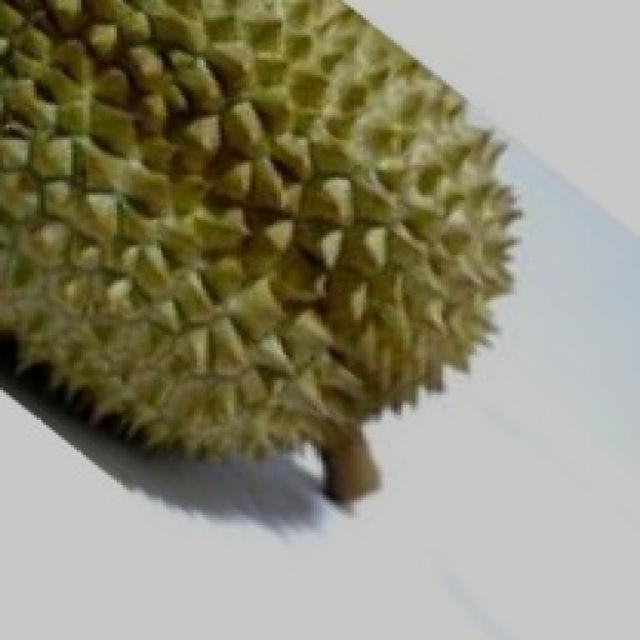fruit: (0, 158, 351, 572)
